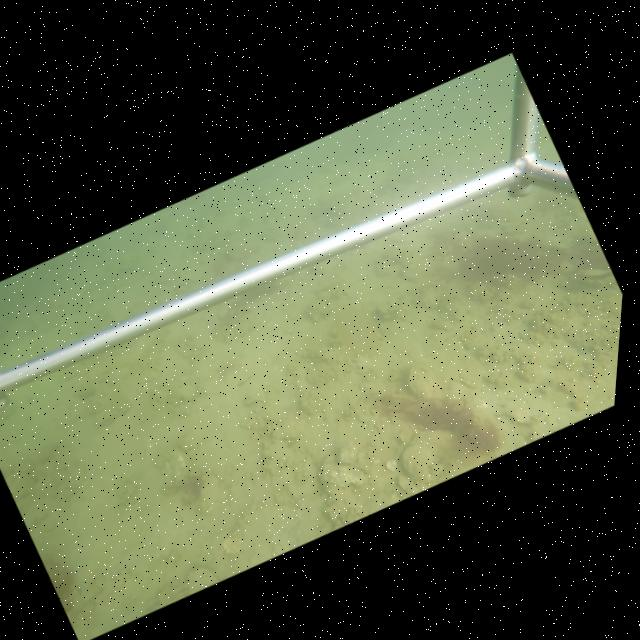Oyster-Indeterminate: (399, 427, 467, 484), (406, 362, 439, 400)
Oyster-Open: (570, 269, 616, 286)
